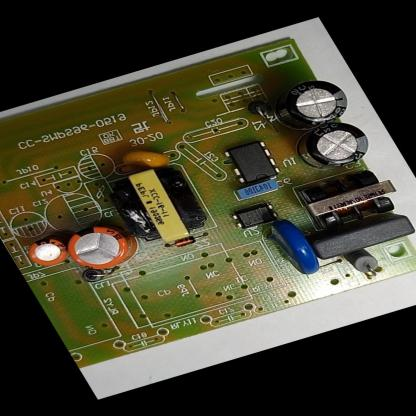Cap1: (54, 214, 148, 278)
Cap2: (19, 230, 82, 272)
Cap3: (283, 116, 384, 182)
Cap4: (257, 69, 360, 138)
MOSFET: (218, 136, 286, 188)
Mov: (256, 212, 330, 282)
Resistor: (339, 247, 387, 283)
Transformer: (97, 155, 221, 252), (292, 160, 410, 235)
